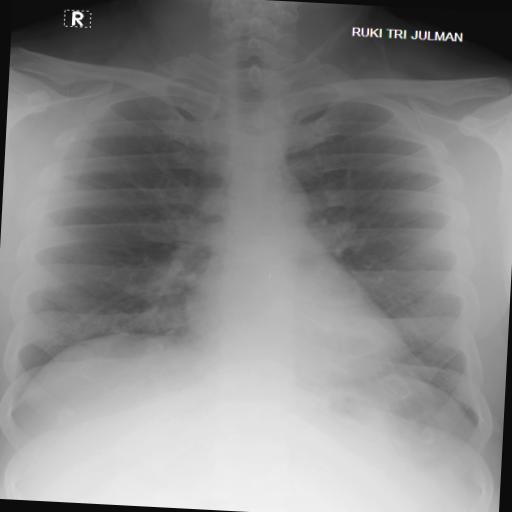kardiomegali: (7, 31, 512, 450)
